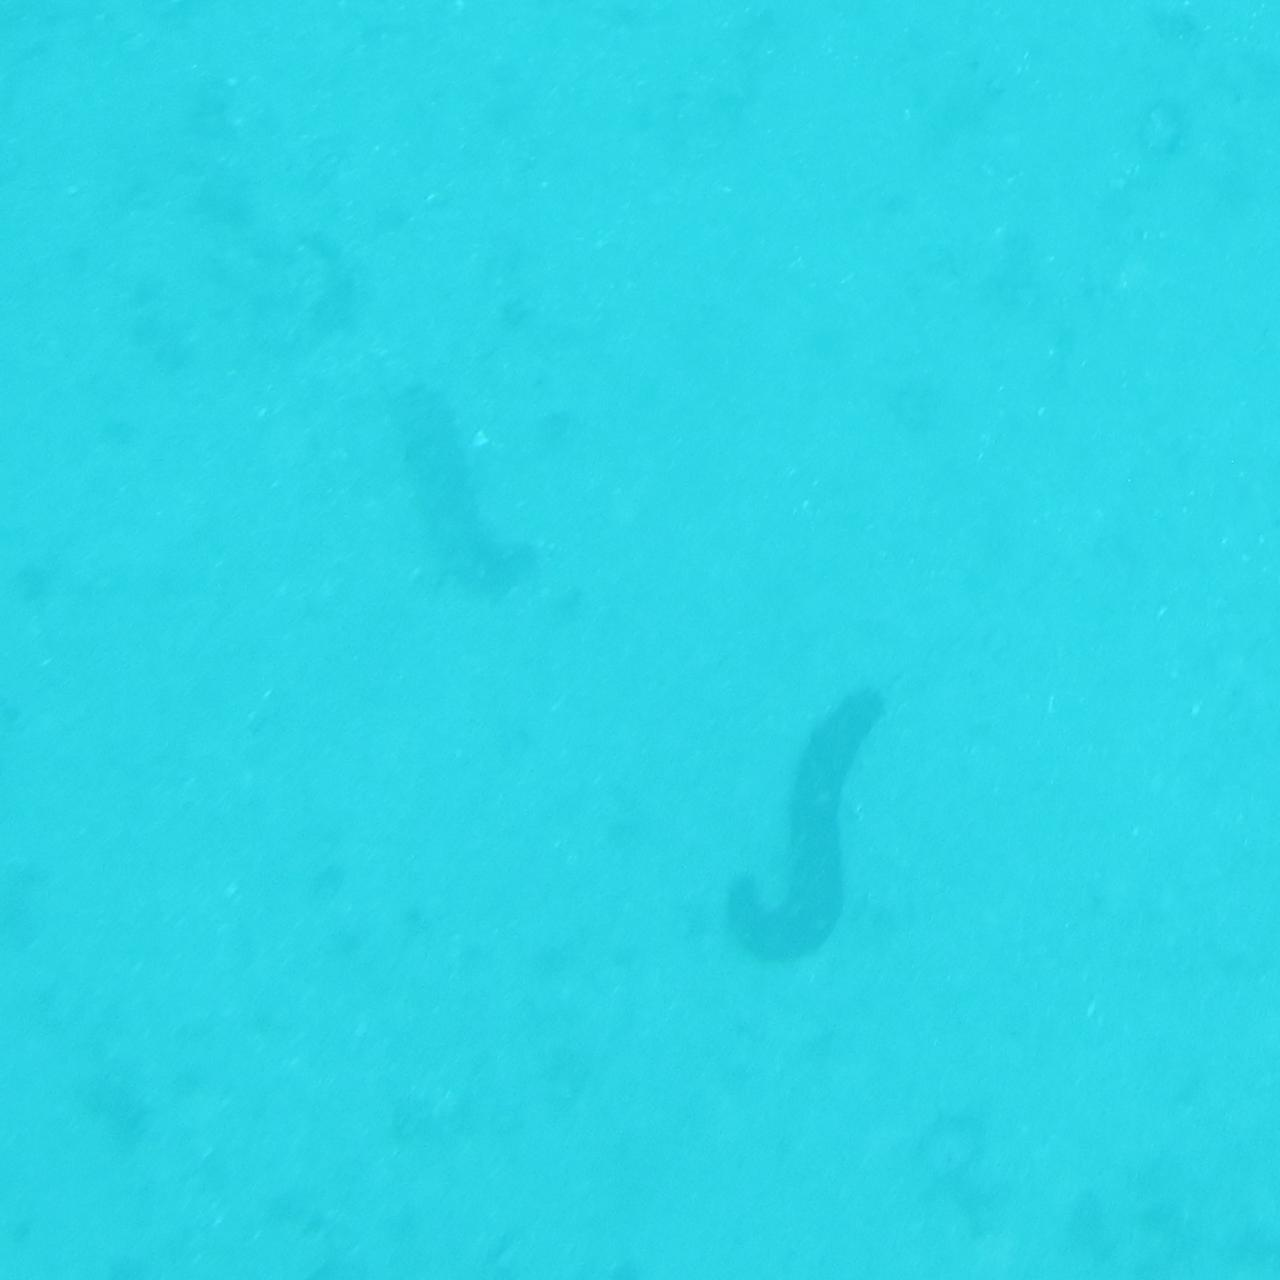Holothuria tubulosa: (709, 667, 907, 993), (387, 404, 557, 614)
